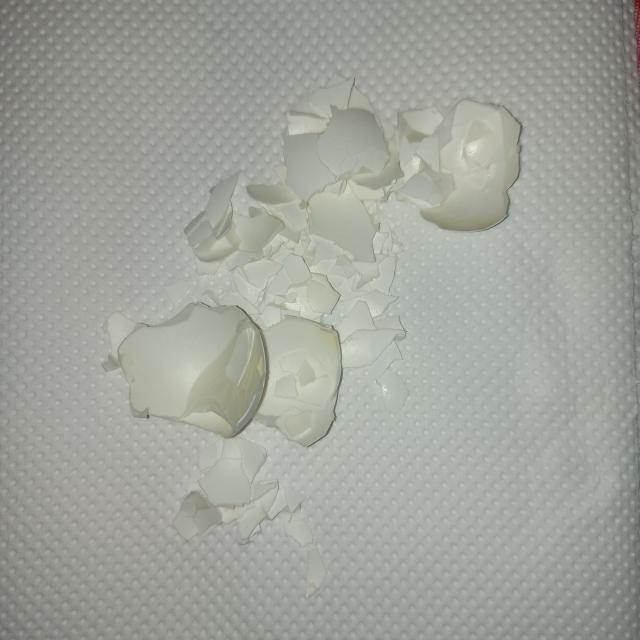egg shell: (104, 301, 270, 439), (434, 93, 529, 228), (257, 311, 347, 450), (207, 433, 273, 523), (302, 187, 377, 266), (183, 167, 241, 259), (274, 119, 352, 187), (326, 101, 390, 173), (227, 261, 319, 300), (174, 487, 226, 546), (326, 287, 413, 322), (340, 326, 407, 370), (404, 160, 456, 213), (222, 207, 278, 256), (398, 110, 452, 143), (282, 501, 314, 553), (267, 298, 317, 320)
